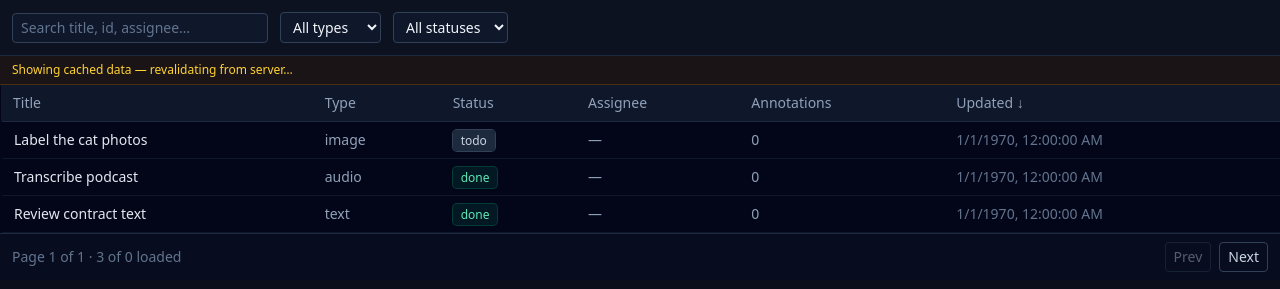
Task filtering interaction › shows all tasks initially, then narrows results when searching
Expected: the text "Label the cat photos" is shown, [1,122,313,158]
Expected: the text "Transcribe podcast" is shown, [1,158,313,196]
Type "podcast" into the field with placeholder "Search title, id, assignee…" at (140, 28), box [12,12,268,42]
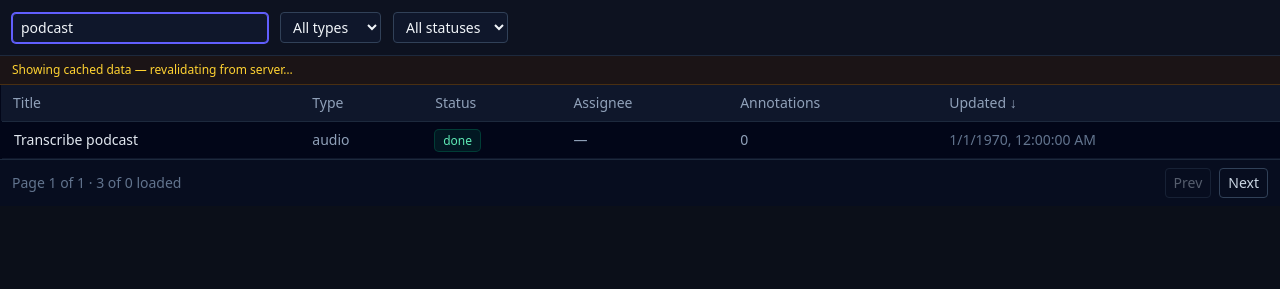
Expected: the text "Transcribe podcast" is shown, [1,122,300,158]
Result: the text "Label the cat photos" is gone
Result: the text "Review contract text" is gone
